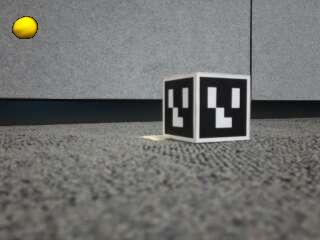lemon: (13, 17, 38, 40)
